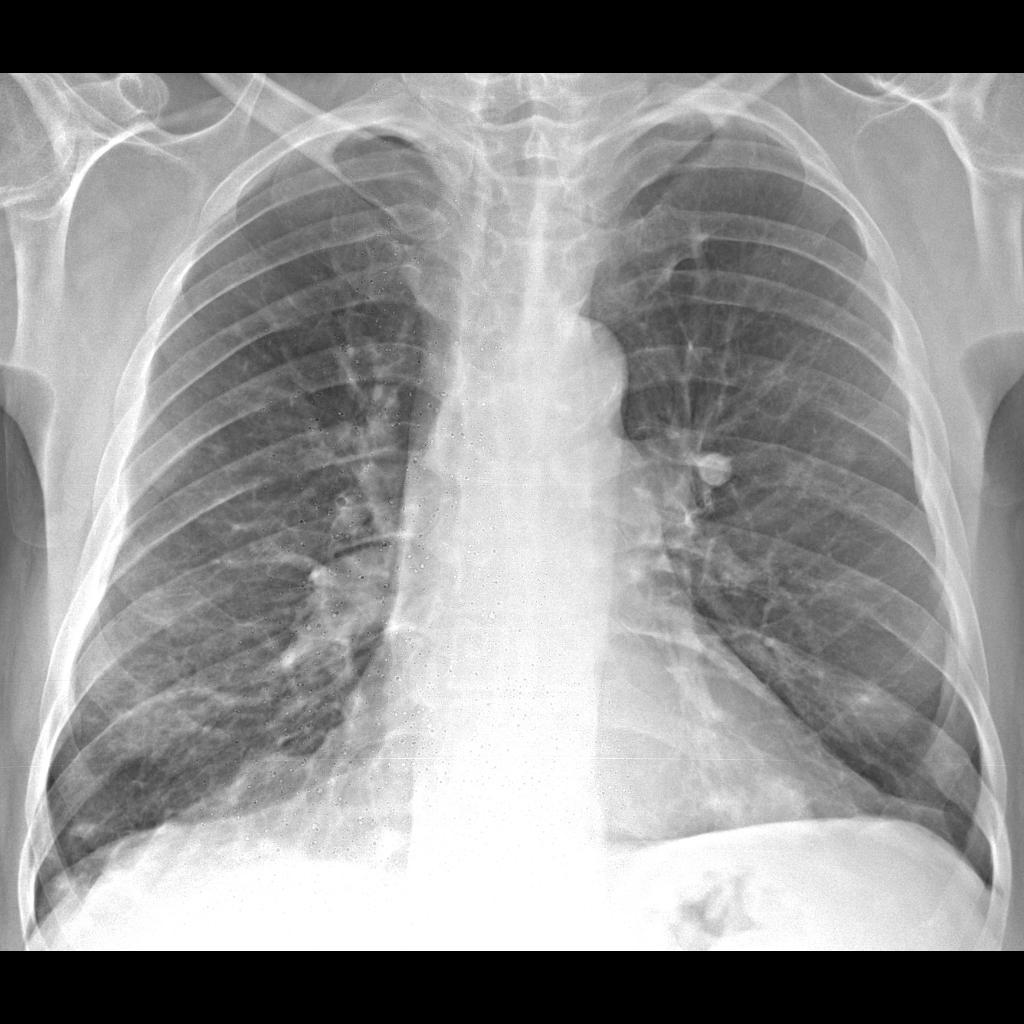Nodule: (697, 444, 735, 491)
